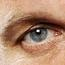eye: (30, 28, 47, 42)
